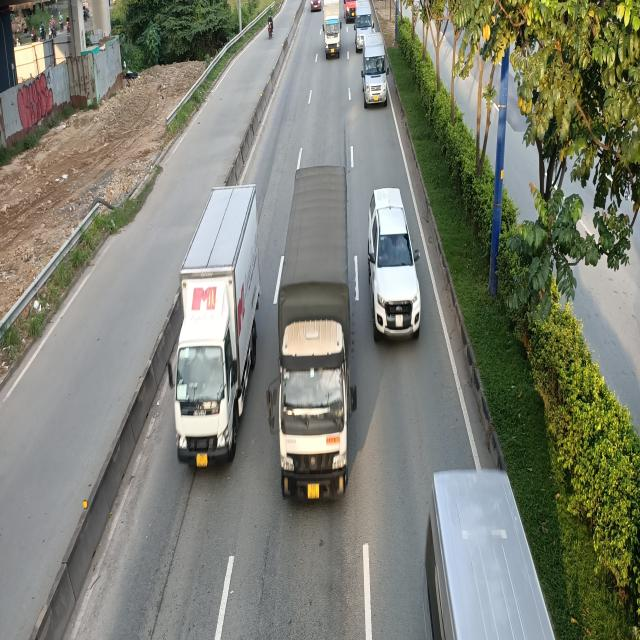car: (369, 189, 423, 344)
truck: (265, 170, 356, 510), (163, 183, 258, 468), (322, 0, 342, 58)
van: (422, 468, 555, 640), (362, 32, 390, 109)
